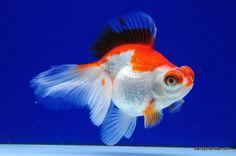goldfish: (55, 39, 209, 137)
